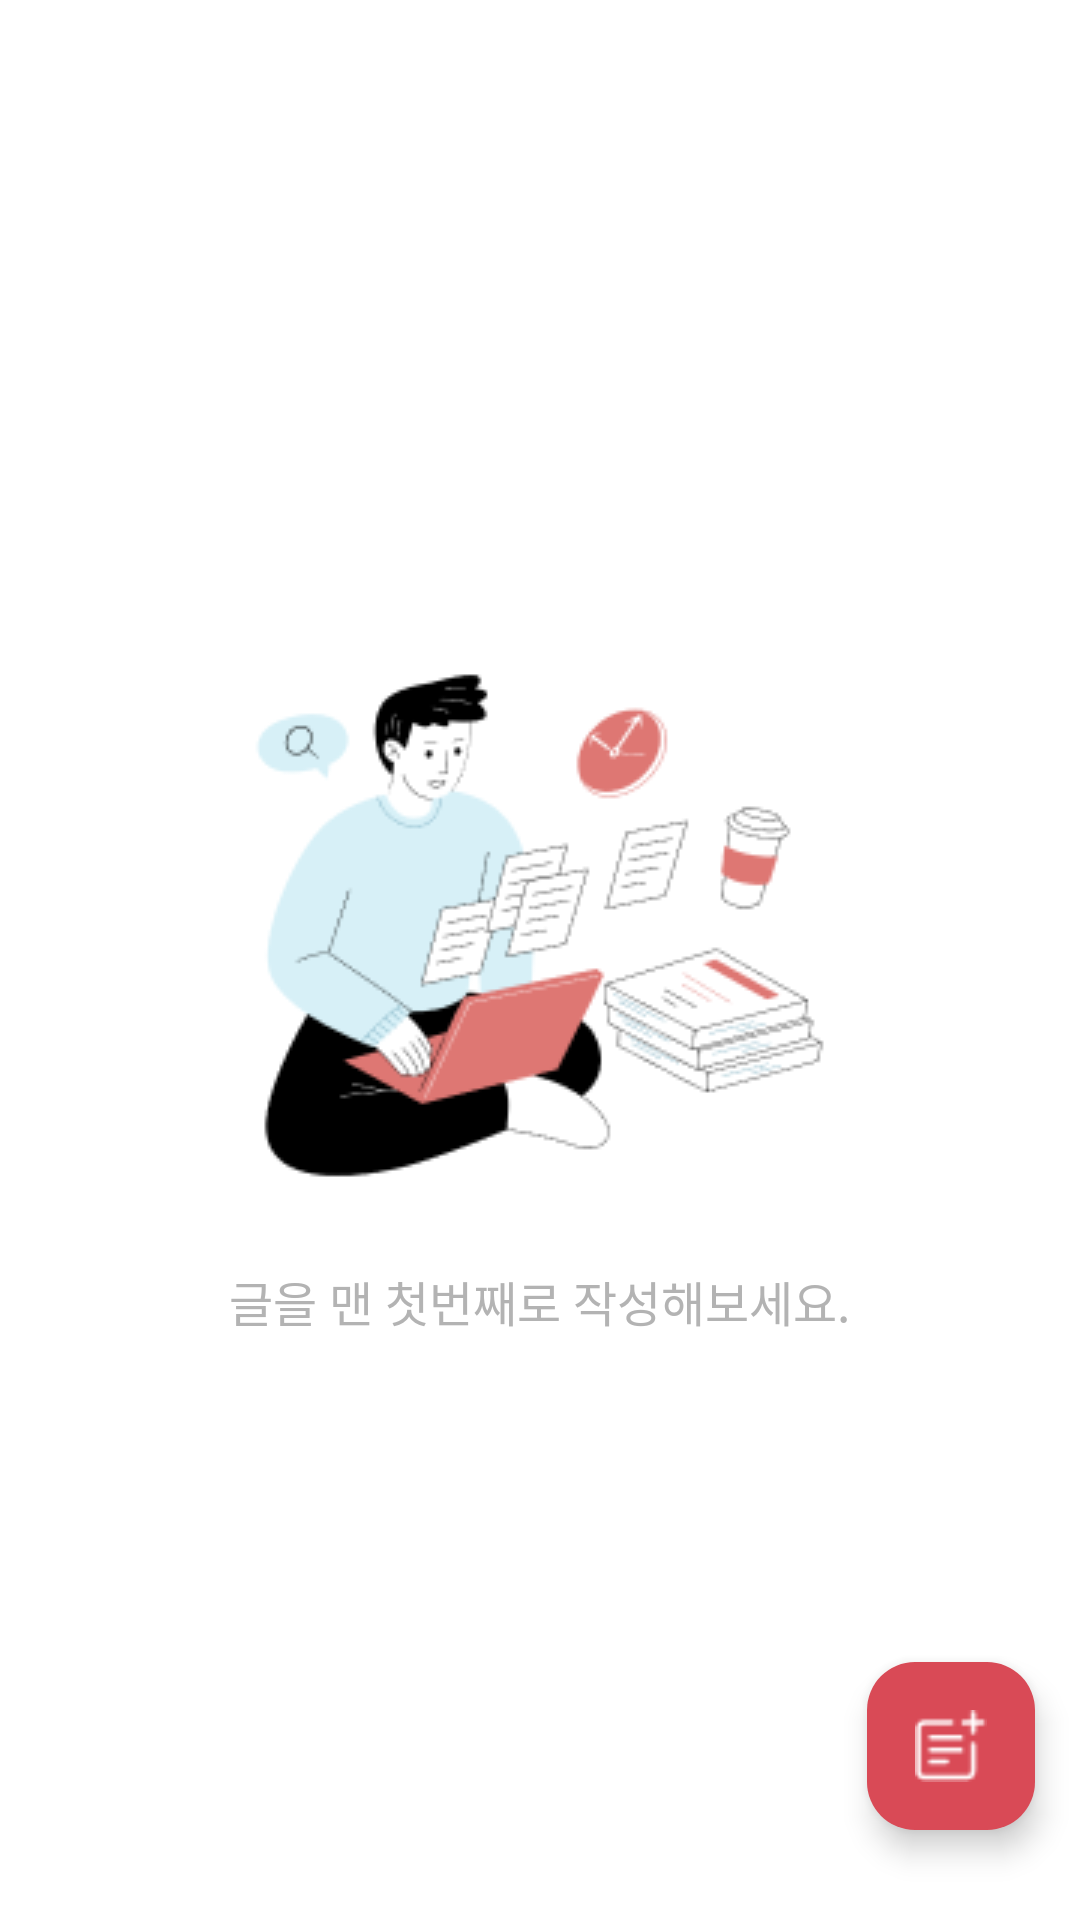

Screen size 1080 x 1920. Icon name, then its box in pixels as (x1, y1, x2, y2):
add board: (867, 1662, 1035, 1830)
